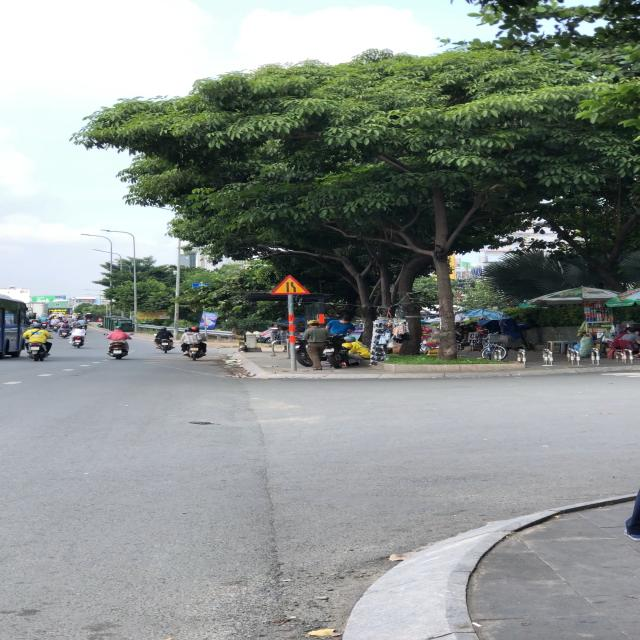Bien bao duong bi thu hep: (267, 274, 313, 294)
